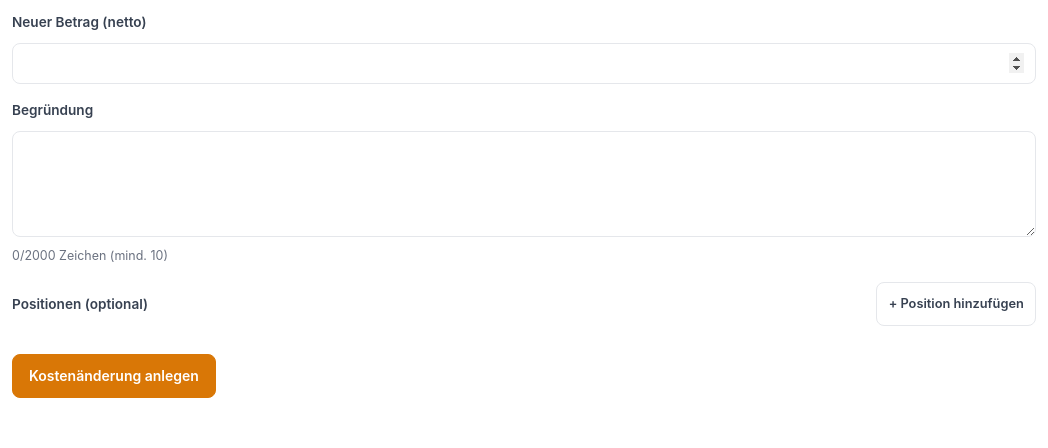
Test: CostChangeForm › blocks submit and shows a message when reason is under 10 characters
This screenshot has width=1048, height=448.
Type "500" into the number field labelled "Neuer Betrag (netto)" at (524, 63), box 12,43 -> 1036,84
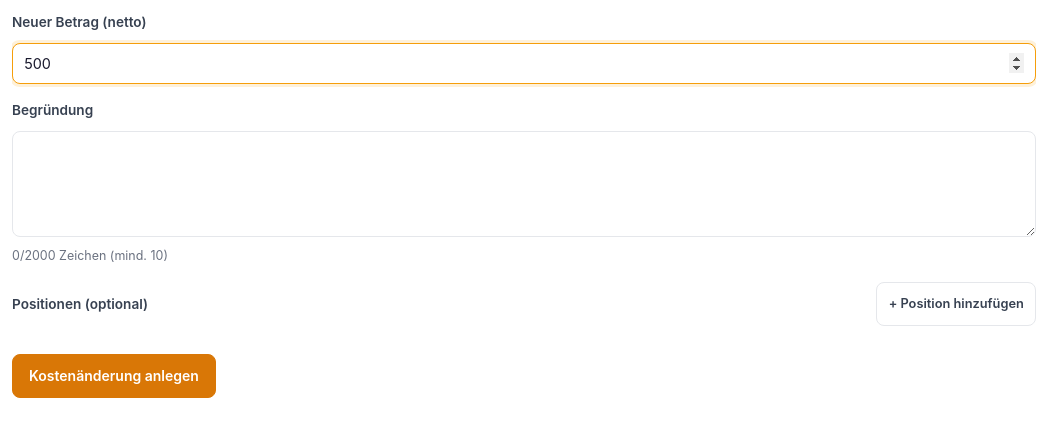
Type "zu kurz" into the text box labelled "Begründung" at (524, 184), box 12,131 -> 1036,237
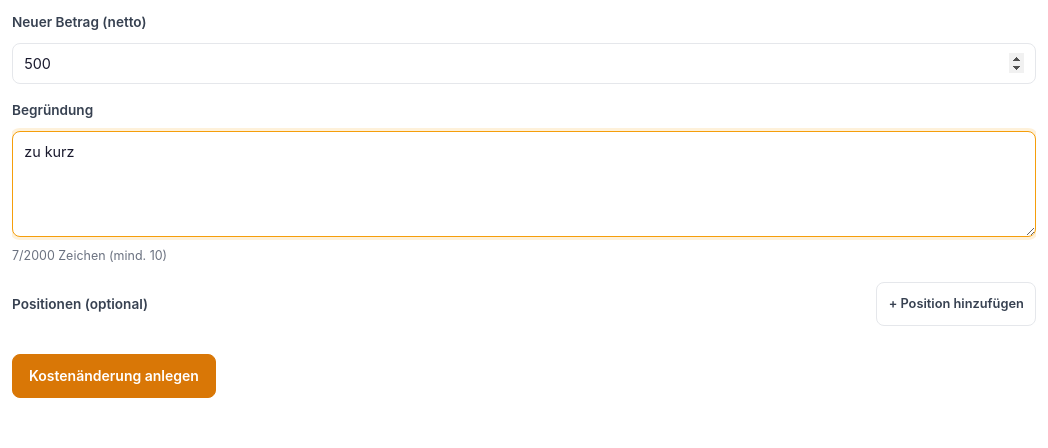
Click the button "Kostenänderung anlegen" at (114, 376), box 12,354 -> 216,398
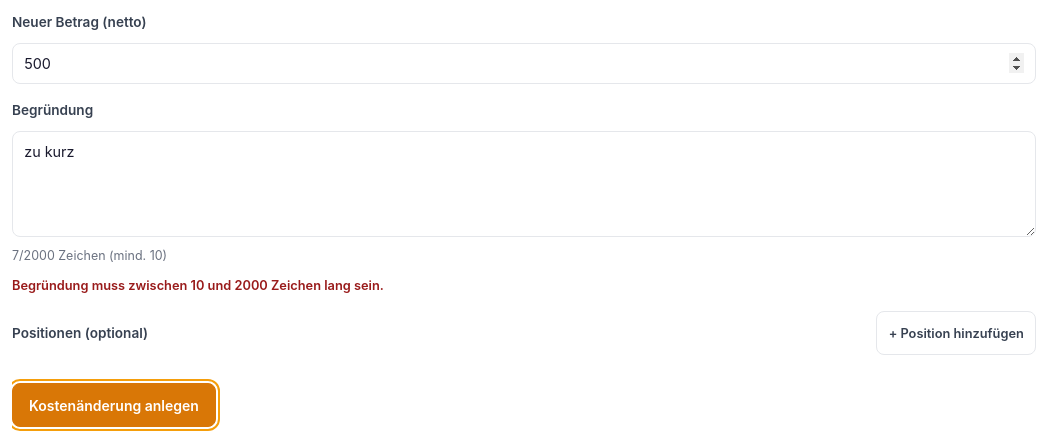
Check: the text "Begründung muss zwischen 10 und 2000 Zeichen lang sein." is shown, box 12,278 -> 384,293
